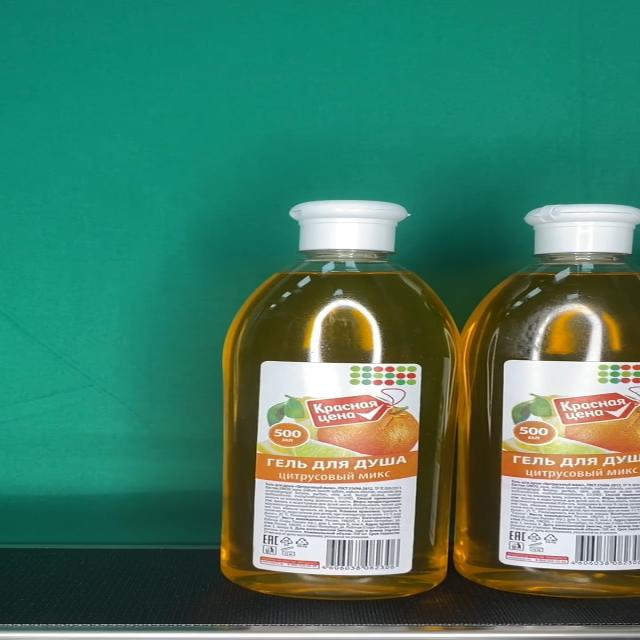Bottle: (221, 201, 460, 601)
Cap: (290, 200, 411, 252)
